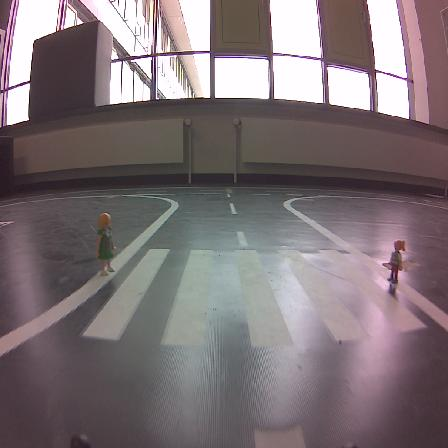CHILD: (388, 240, 404, 283)
PERSON: (96, 213, 114, 275)
